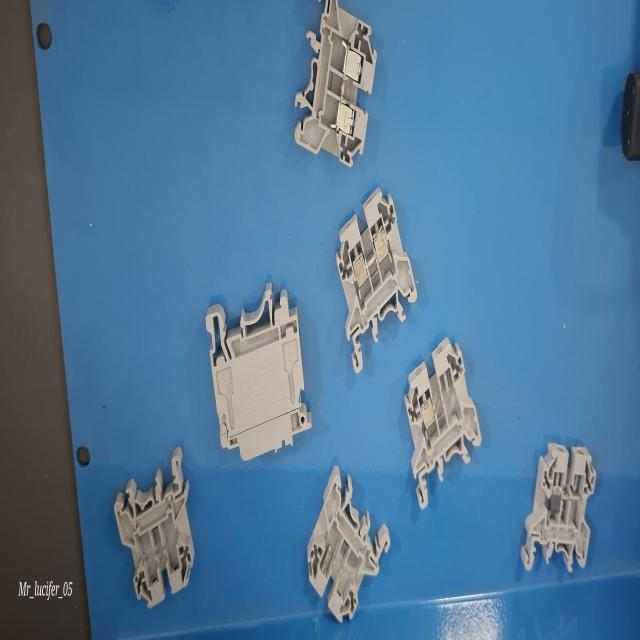Pass: (337, 194, 420, 372), (294, 0, 376, 168)
Reject: (306, 466, 390, 638), (114, 447, 196, 606), (404, 338, 482, 502), (521, 442, 594, 574)
